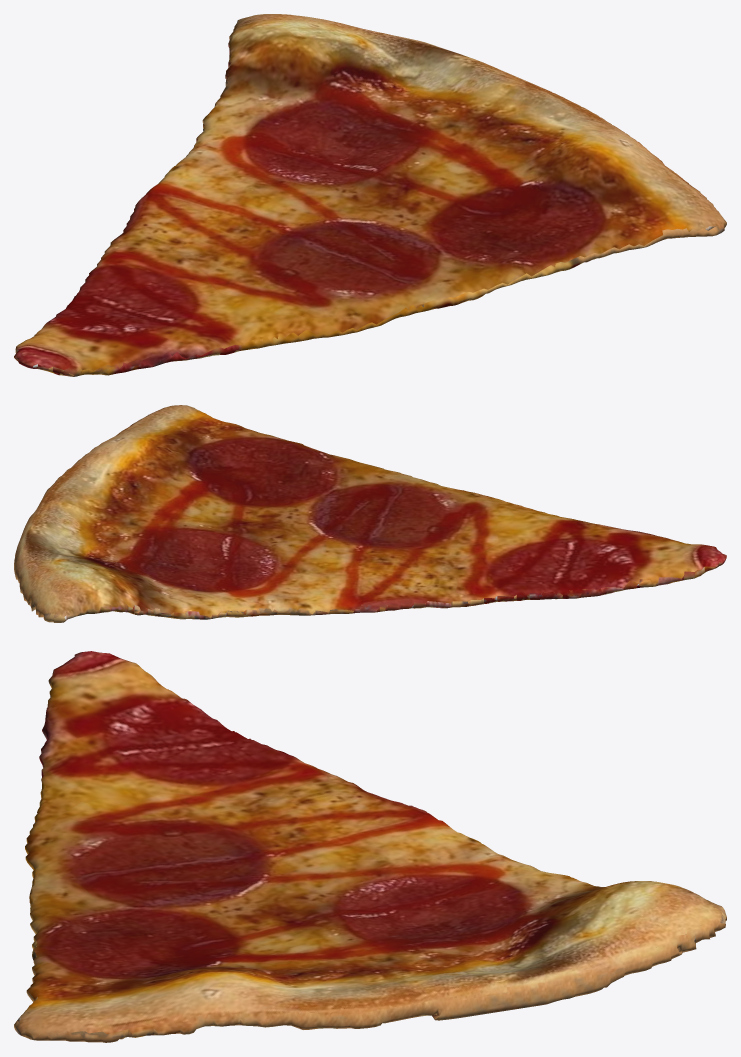
File: pizza.glb
3 views of the same model, one above another, from view 1: azimuth 30°, elevation 25°; view 2: azimuth 150°, elevation 25°; view 3: azimuth 270°, elevation 25° (orthographic). The views are drawn at different scales.
Visible parts, largest first — view 1: WholeMesh; view 2: WholeMesh; view 3: WholeMesh.
Boxes of the visible parts, x1=… form: WholeMesh: x1=14, y1=14, x2=726, y2=376; WholeMesh: x1=14, y1=405, x2=726, y2=622; WholeMesh: x1=14, y1=651, x2=726, y2=1042.
Size of the model in its own units: 0.2069 by 0.0181 by 0.164.
1 material, 1 textured.
